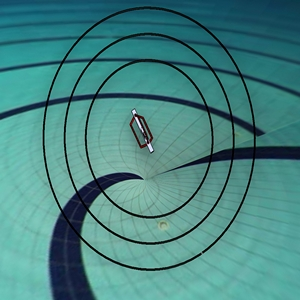circle: (30, 3, 270, 274)
submarine: (115, 97, 167, 163)
